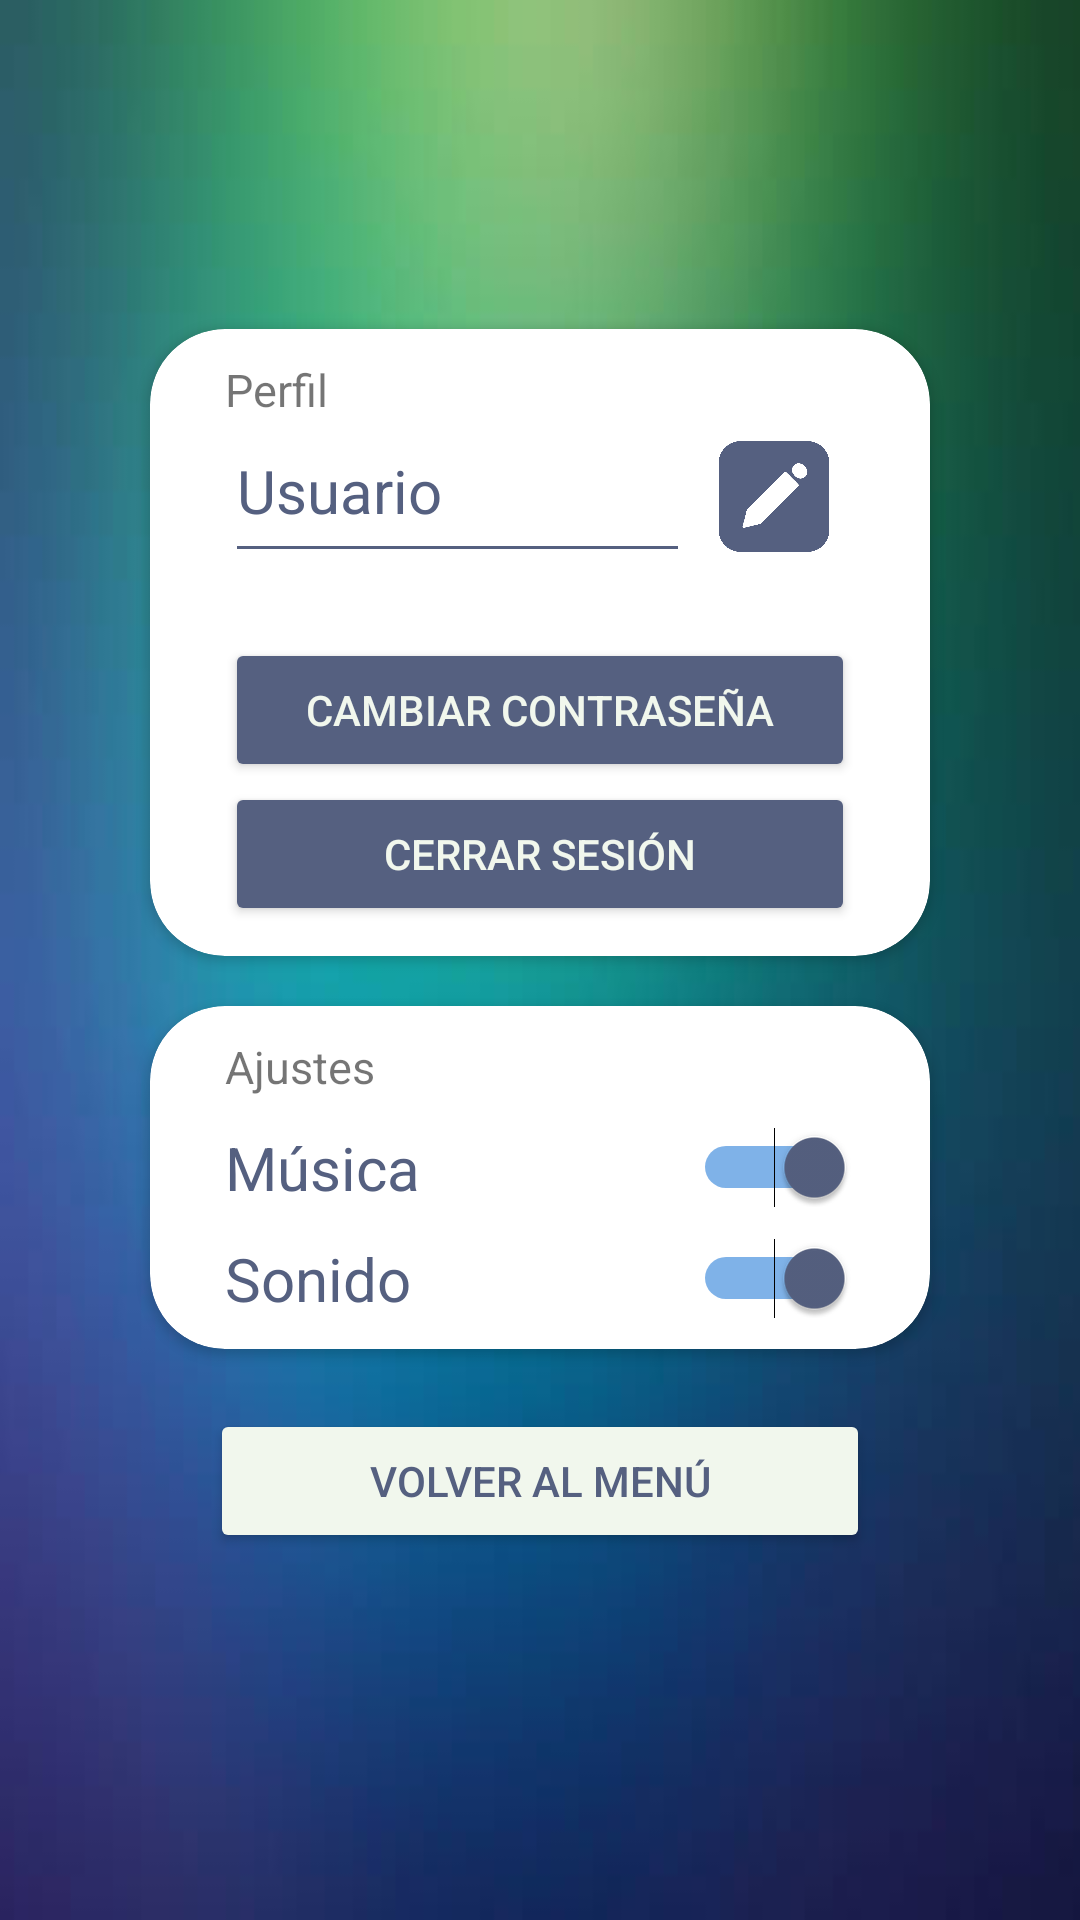

Where icons sit on this 1080 × 1920 app screen, as (x1, y1, x2, y2):
edit: (719, 441, 829, 552)
